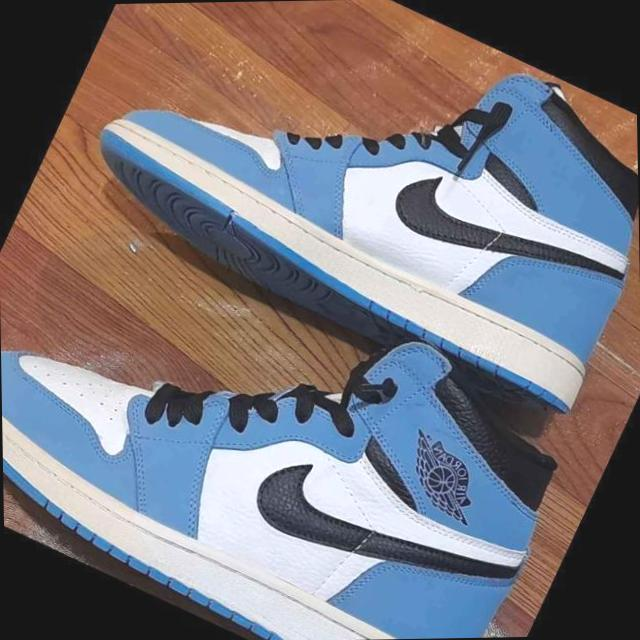nike_fake_jordan: (0, 157, 596, 640), (63, 0, 640, 441)
